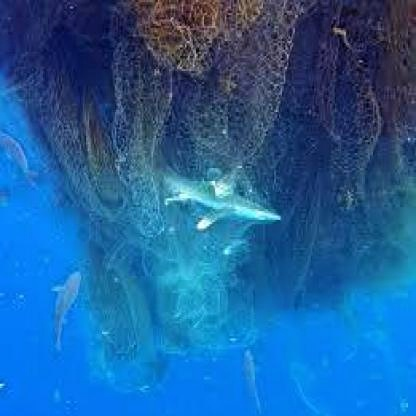net: (36, 2, 416, 202)
